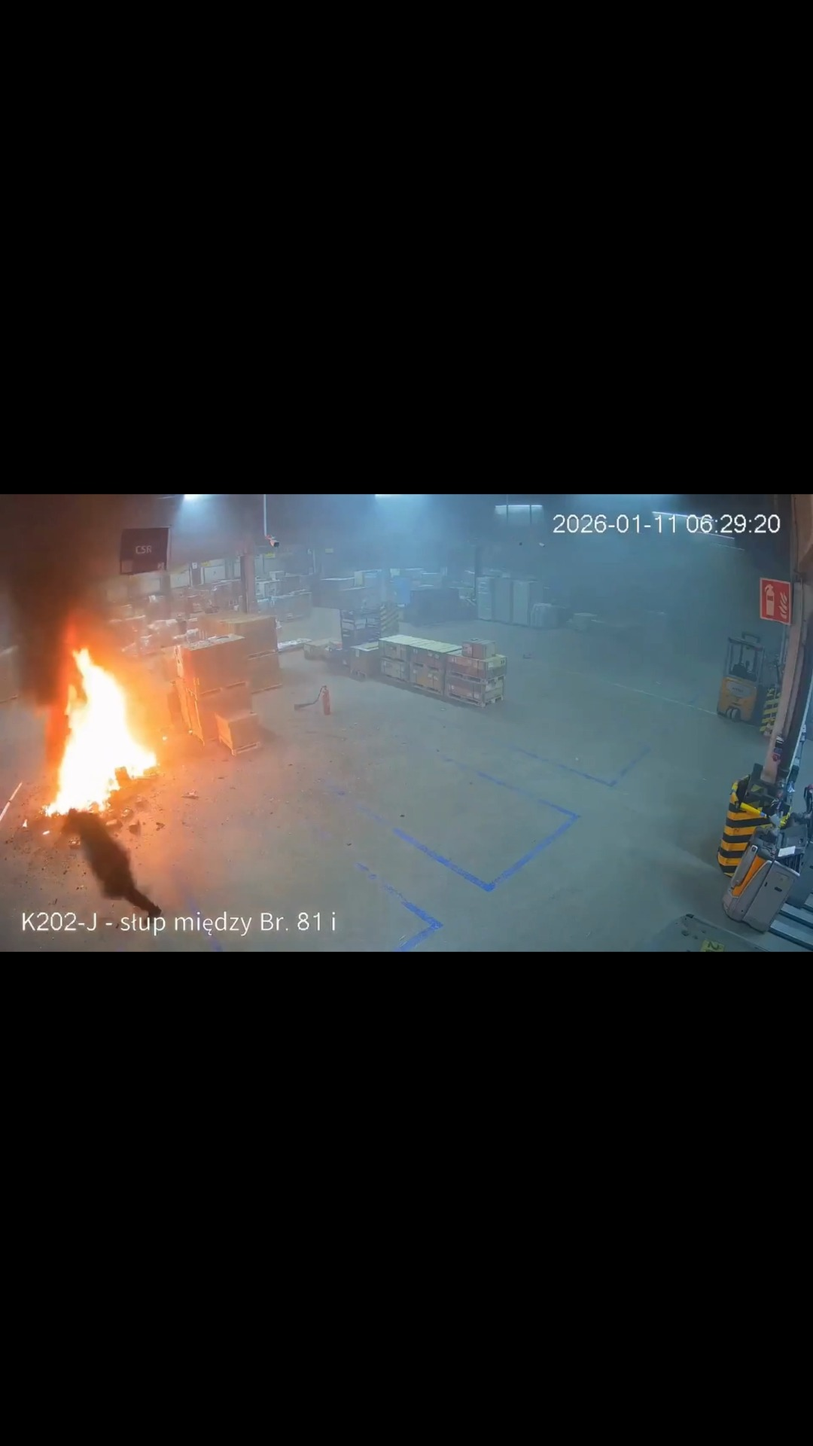fire: (41, 627, 165, 818)
smoke: (0, 496, 160, 763)
